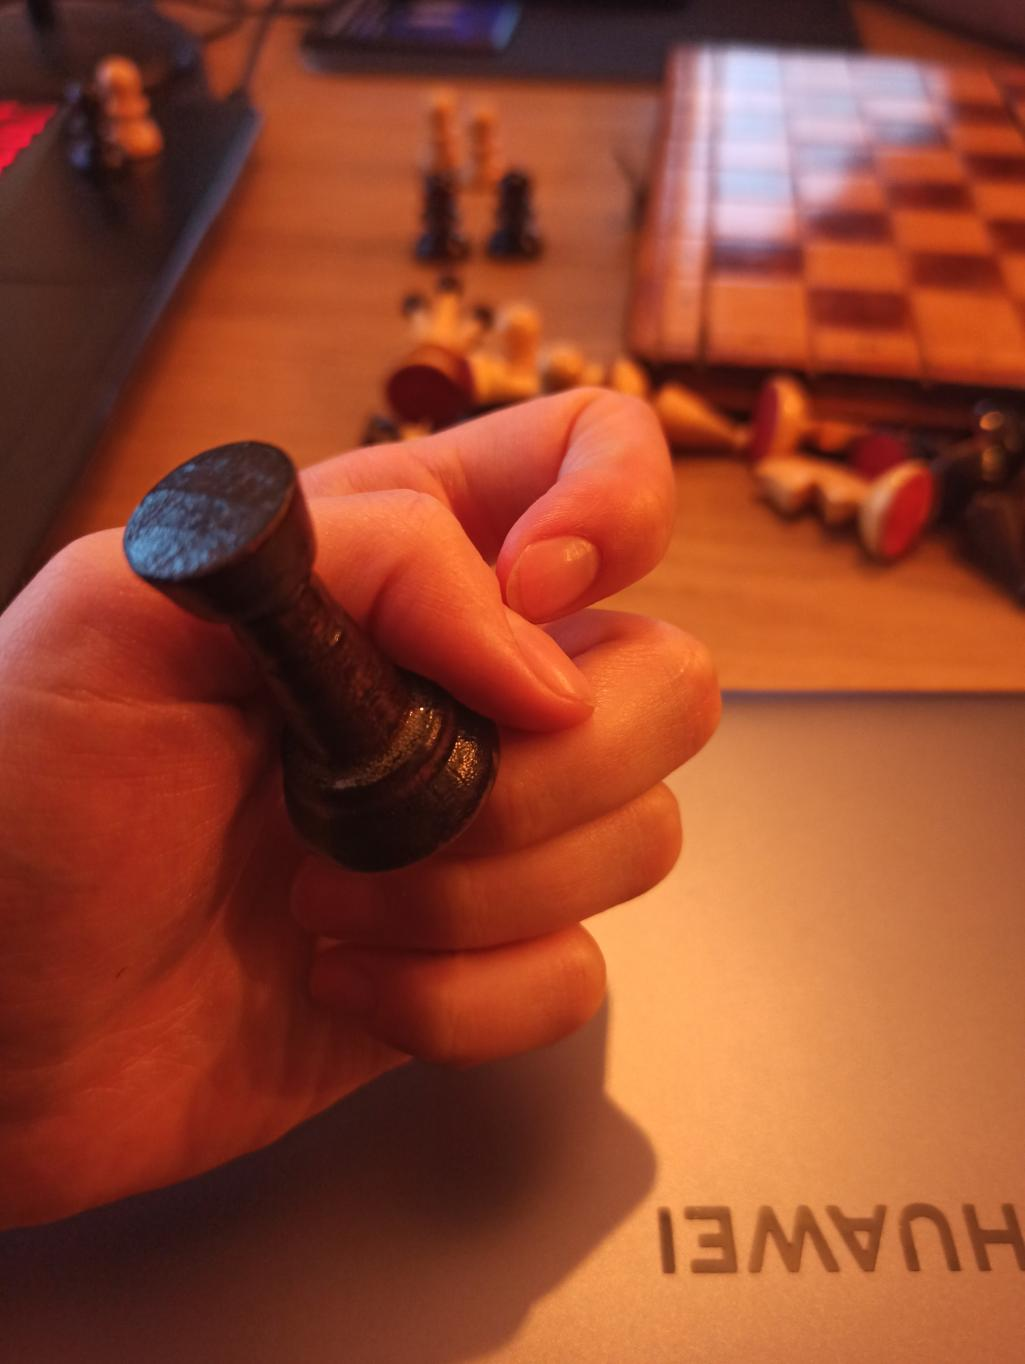brook: (122, 436, 503, 871)
